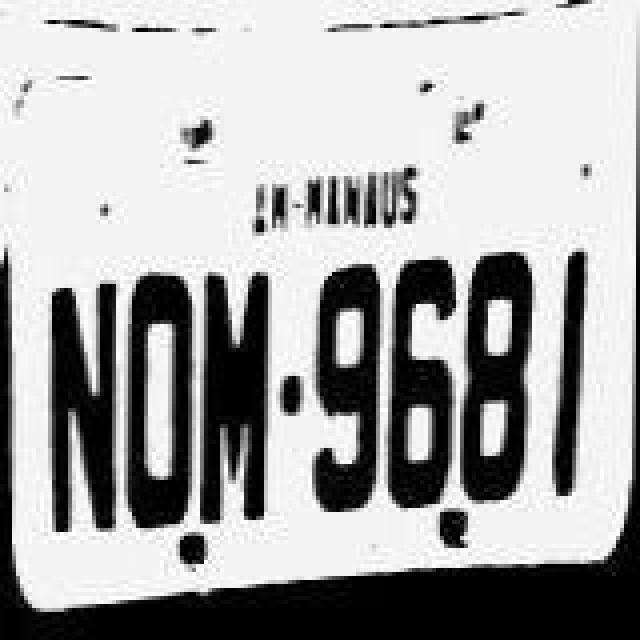1: (536, 244, 592, 500)
6: (386, 258, 462, 510)
8: (458, 250, 542, 502)
9: (308, 262, 388, 514)
M: (194, 274, 278, 526)
N: (42, 280, 126, 536)
O: (122, 272, 198, 528)
